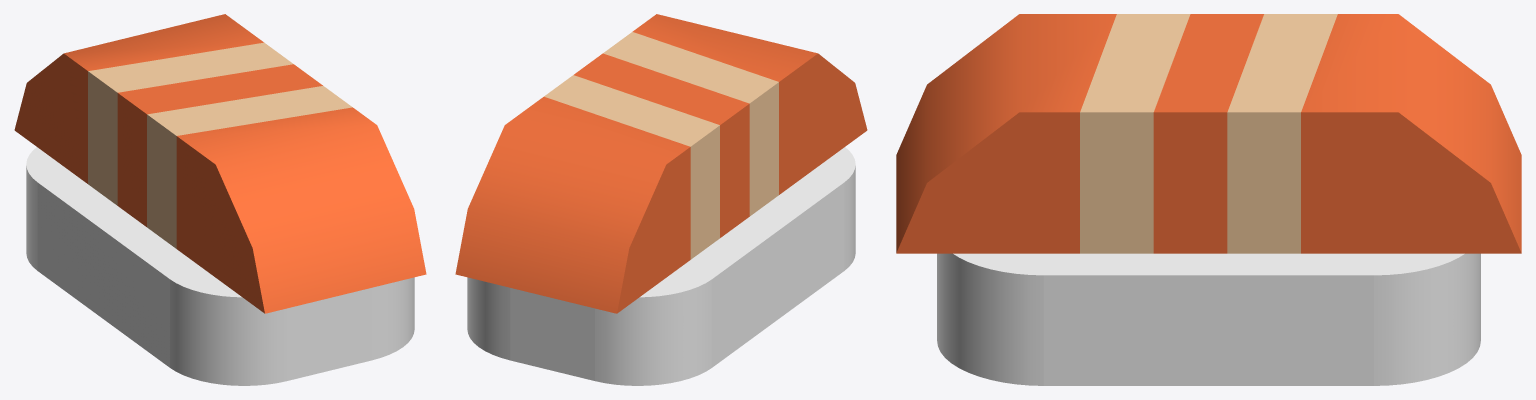
Rendered from sushiSalmon.obj.
The picture shows the model from 3 angles, left to right: view 1: azimuth 30°, elevation 25°; view 2: azimuth 150°, elevation 25°; view 3: azimuth 270°, elevation 25°; orthographic projection. The views are drawn at different scales.
Parts seen in each view (by area): view 1: salmon, sushiSalmon; view 2: salmon, sushiSalmon; view 3: salmon, sushiSalmon.
Boxes of the visible parts, bbox=[...] form: salmon: bbox=[14, 14, 426, 313]; sushiSalmon: bbox=[26, 147, 414, 385]; salmon: bbox=[455, 14, 867, 313]; sushiSalmon: bbox=[467, 147, 855, 385]; salmon: bbox=[896, 14, 1521, 253]; sushiSalmon: bbox=[937, 253, 1480, 385].
Size of the model in its own units: 0.1079 by 0.0892 by 0.2008.
